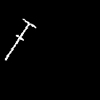double_crochet: (5, 19, 35, 59)
